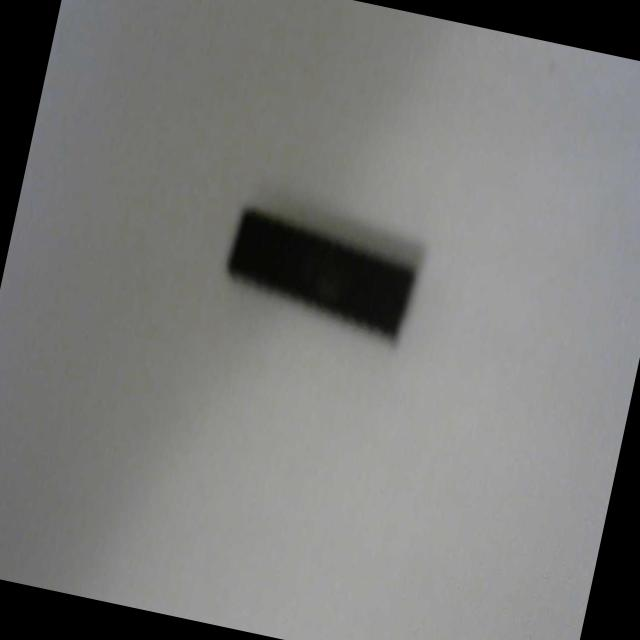atmega: (213, 193, 429, 352)
